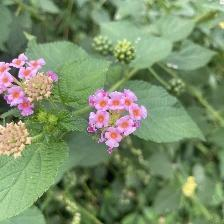common lanthana: (81, 84, 147, 155)
